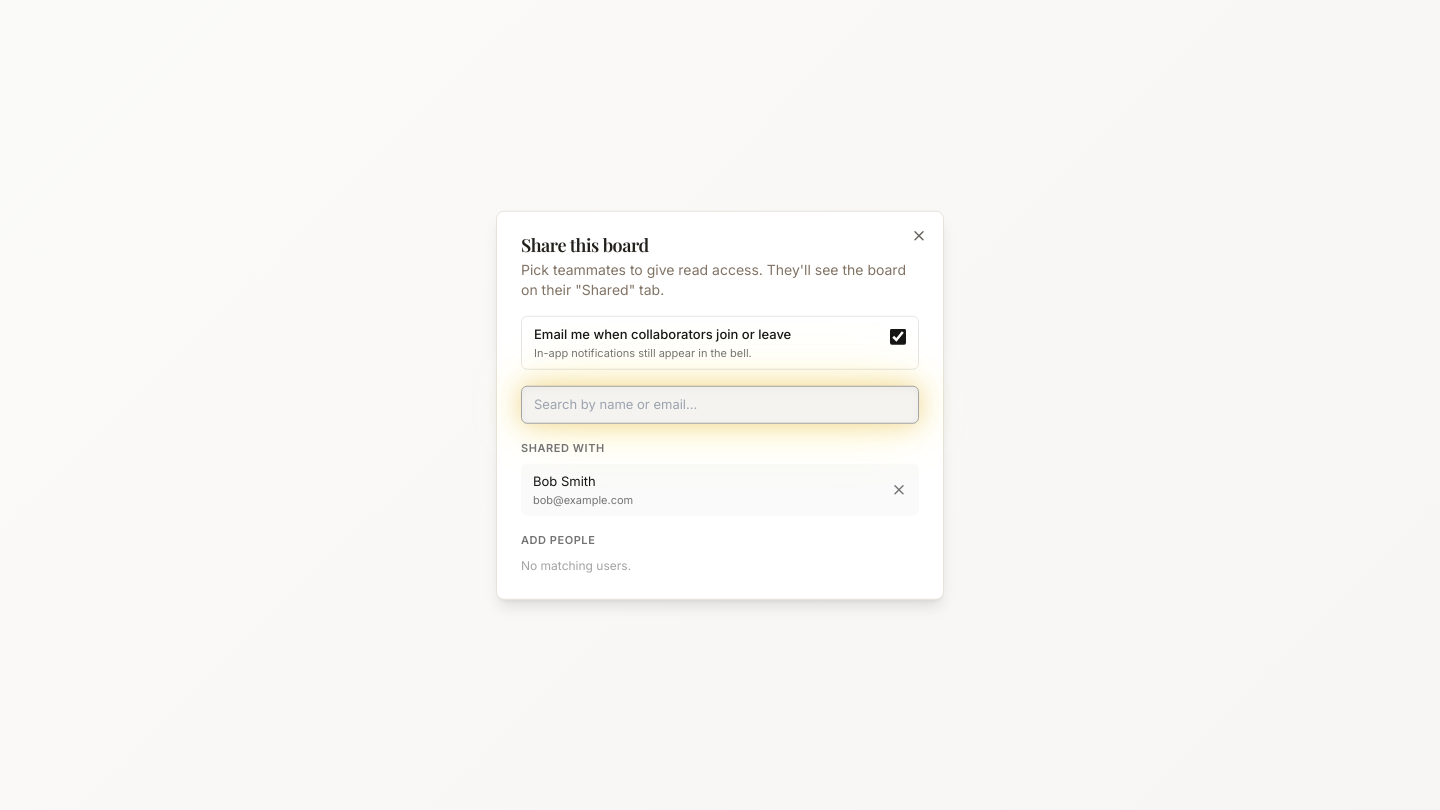
Scenario: ShareBoardDialog remove confirmation › opens a confirmation prompt when clicking the X next to a collaborator
Click the button with test id "button-unshare-user-2". click: click(899, 490)
box: x1=891 y1=482 x2=907 y2=498
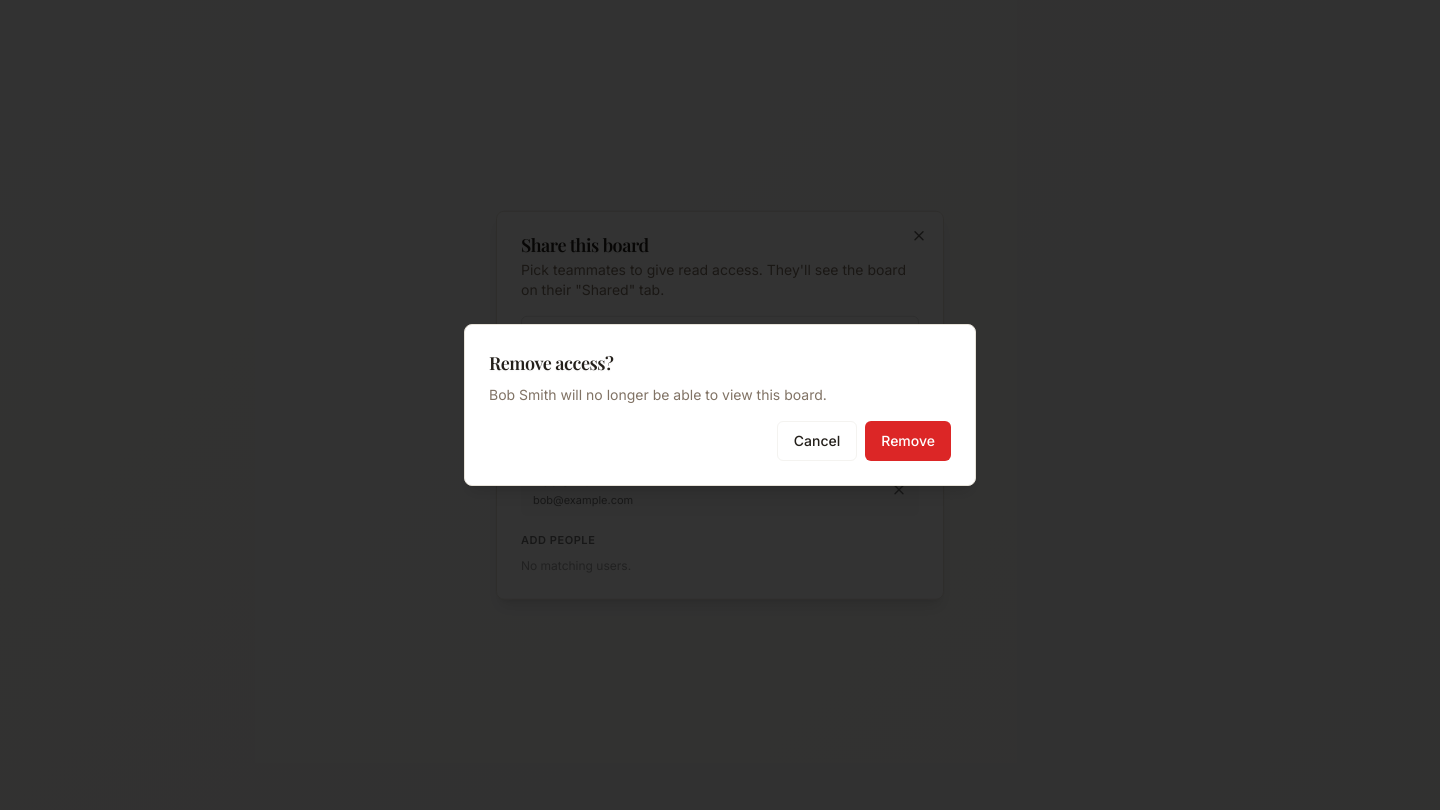
expect the dialog with test id "confirm-dialog" is shown: met, box x1=464 y1=324 x2=976 y2=486
expect the heading with test id "confirm-dialog-title" shows "Remove access": met, box x1=489 y1=351 x2=614 y2=375
expect the text with test id "confirm-dialog-description" shows "Bob Smith": met, box x1=489 y1=386 x2=827 y2=403
